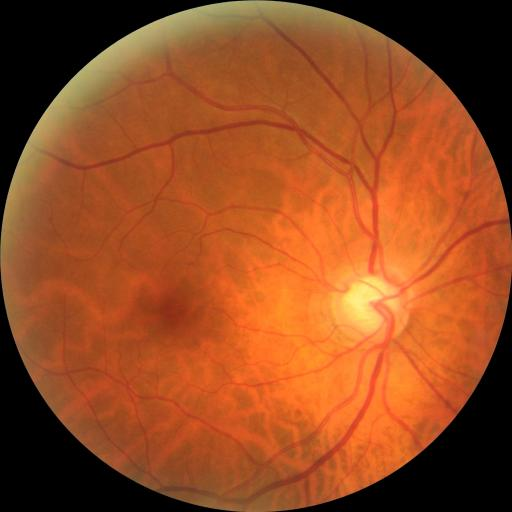Optic Cup: (343, 278, 397, 330)
Optic Disc: (330, 265, 410, 342)
